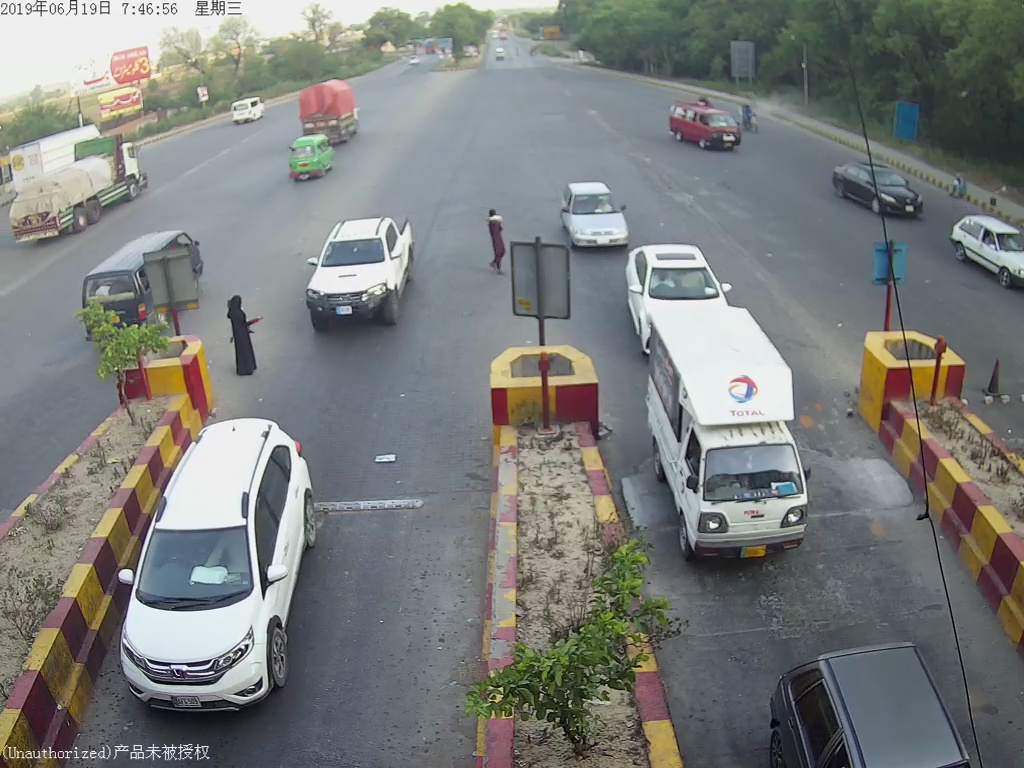Cat-1: (117, 419, 321, 717), (648, 312, 829, 573), (304, 210, 431, 341), (561, 173, 626, 256)
